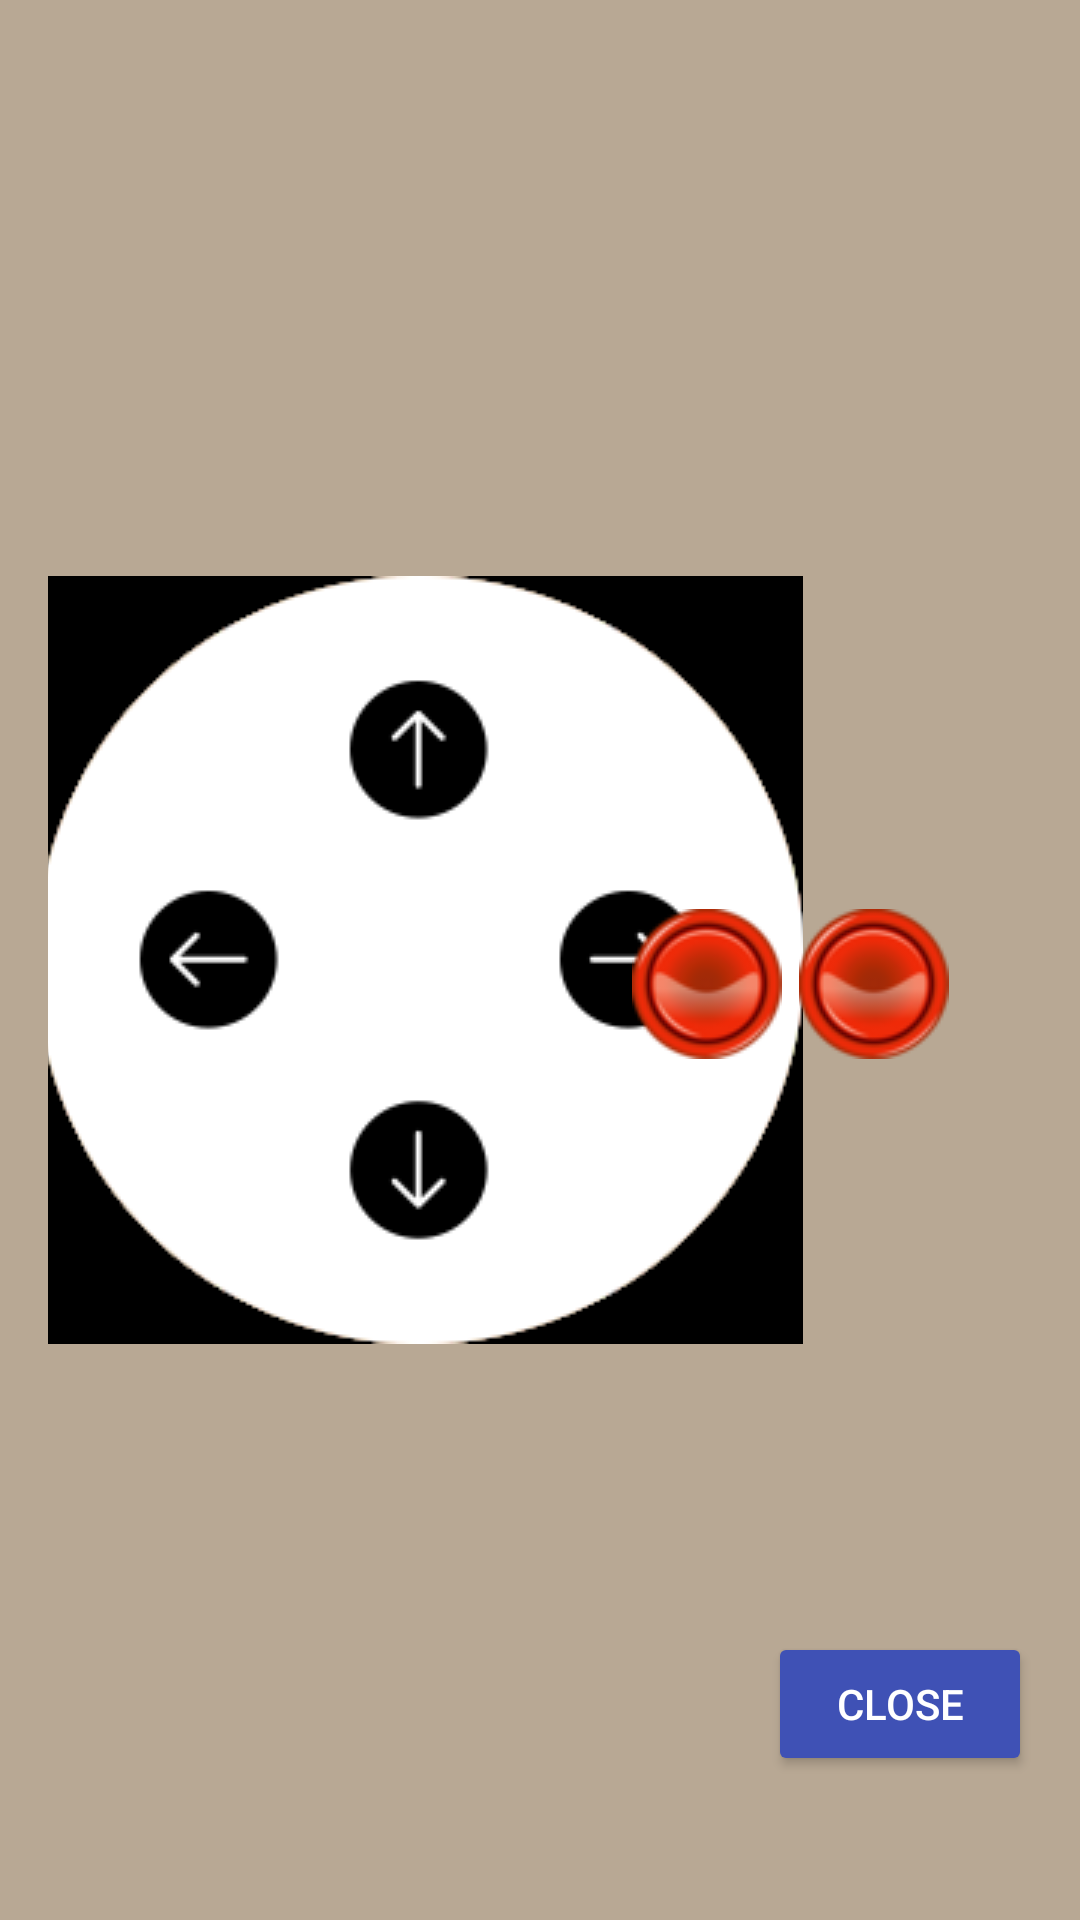

Screen size 1080 x 1920. Icon name, then its box in pixels as (x1, y1, x2, y2):
down: (349, 1100, 489, 1240)
fire1: (632, 909, 782, 1059)
fire2: (799, 909, 949, 1059)
left: (139, 890, 279, 1030)
up: (349, 680, 489, 820)
